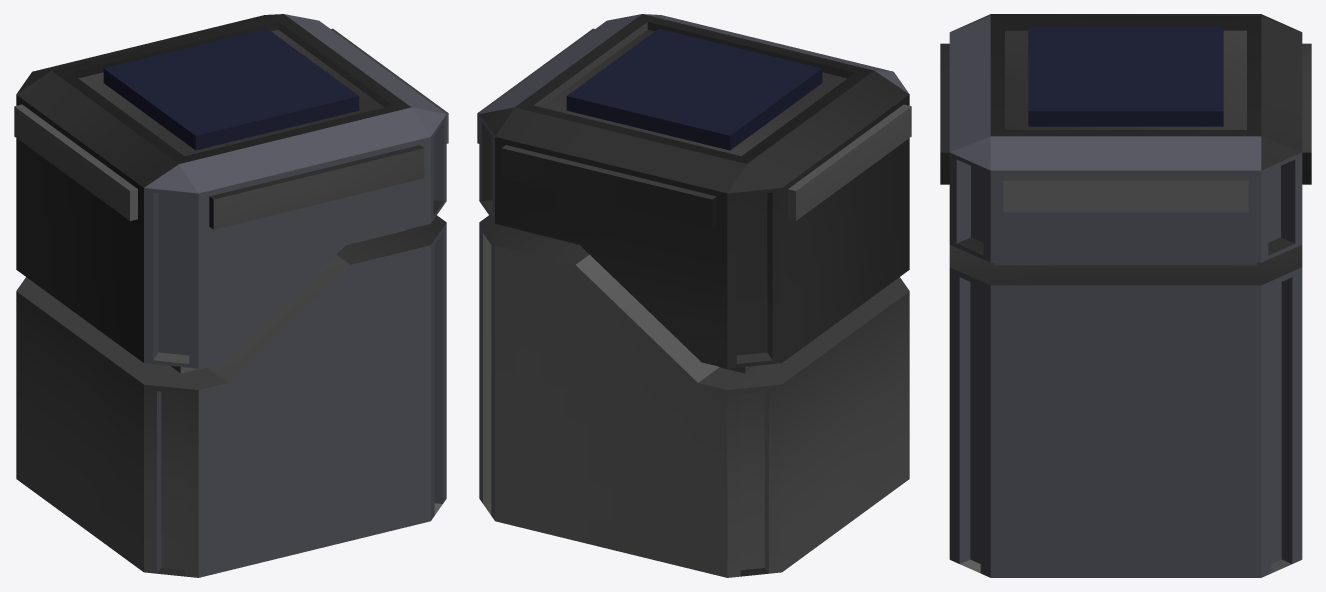
File: buildinga.FBX
The picture shows the model from 3 angles, left to right: view 1: azimuth 30°, elevation 25°; view 2: azimuth 150°, elevation 25°; view 3: azimuth 270°, elevation 25°; orthographic projection. The views are drawn at different scales.
Visible parts, largest first — view 1: S13; view 2: S13; view 3: S13.
Part boxes in pixels (x1,y1,x2,y2): S13: (14, 14, 448, 577); S13: (477, 14, 911, 577); S13: (940, 14, 1311, 577).
Size of the model in its own units: 379 by 461 by 360.
